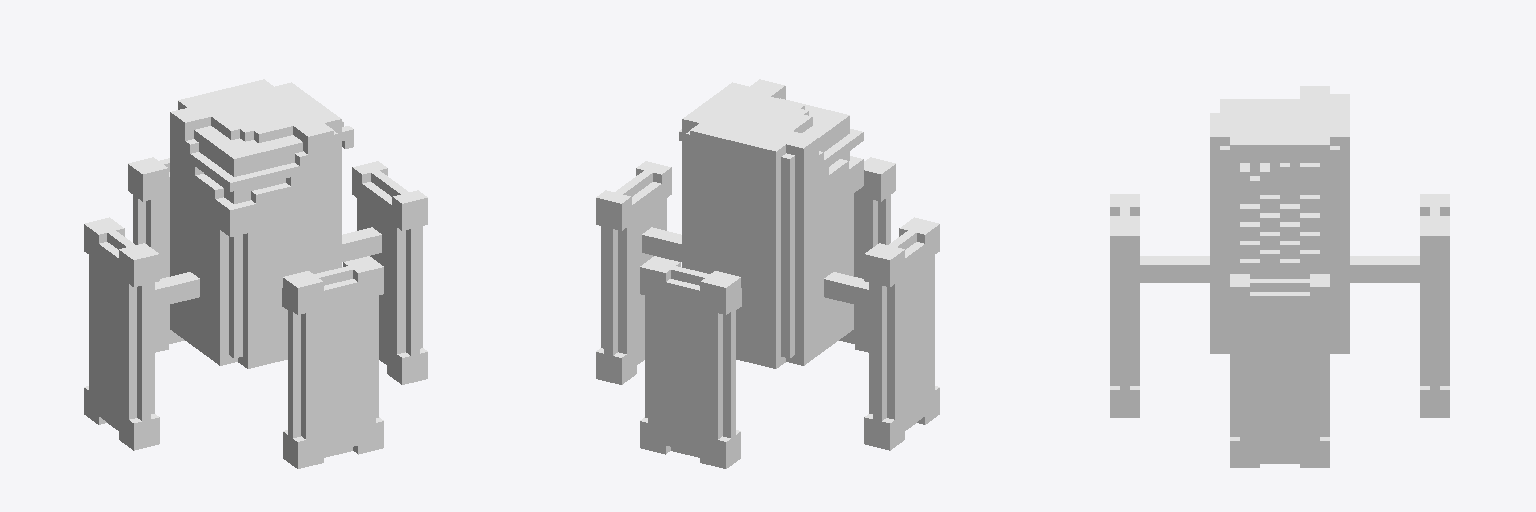
File: debugger1.vox.obj
3 renders of one model, left to right at view 1: azimuth 30°, elevation 25°; view 2: azimuth 150°, elevation 25°; view 3: azimuth 270°, elevation 25°, orthographic.
Parts seen in each view (by area): view 1: object 1; view 2: object 1; view 3: object 1.
Boxes of the visible parts, <box> form: object 1: <box>84,79,427,468</box>; object 1: <box>596,79,939,468</box>; object 1: <box>1110,86,1449,467</box>.
Bounding box in the file's own units: 3.4 × 3.1 × 3.4.